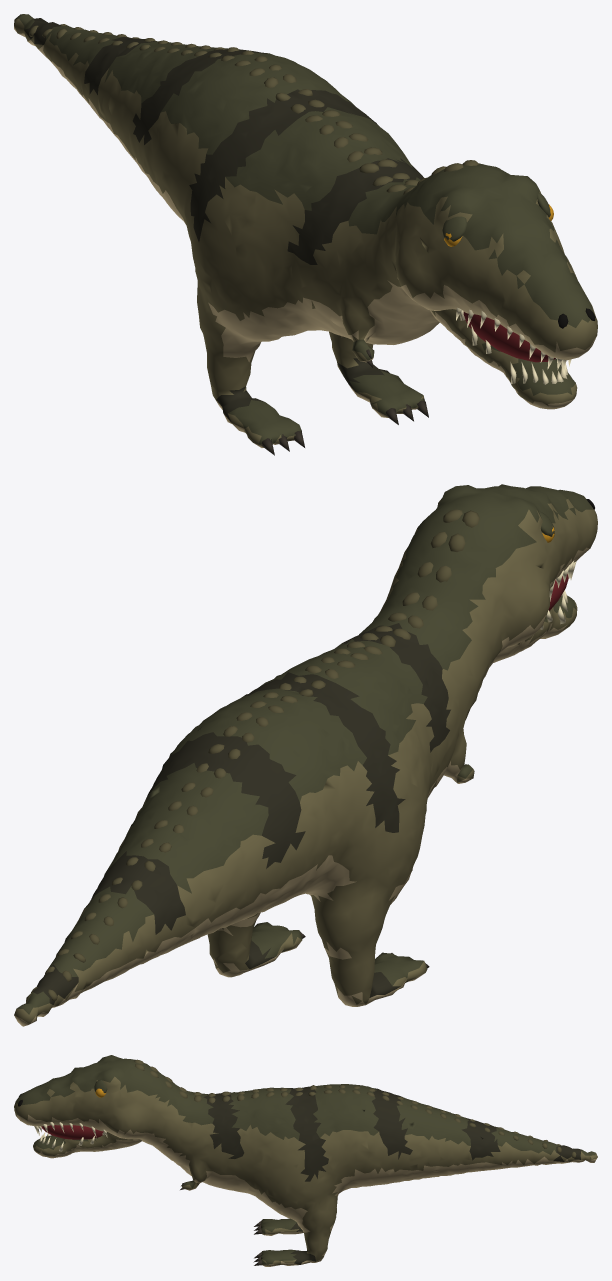
File: trex_realiste.glb
3 renders of one model, top to bottom at view 1: azimuth 30°, elevation 25°; view 2: azimuth 150°, elevation 25°; view 3: azimuth 270°, elevation 25°, orthographic. The views are drawn at different scales.
Parts seen in each view (by area): view 1: TRex; view 2: TRex; view 3: TRex.
Part boxes in pixels (<box>): TRex: <box>14,14,597,455</box>; TRex: <box>14,484,597,1026</box>; TRex: <box>14,1055,597,1266</box>.
Bounding box in the file's own units: 2.68 × 4.53 × 12.91.
1 material, 1 textured.
